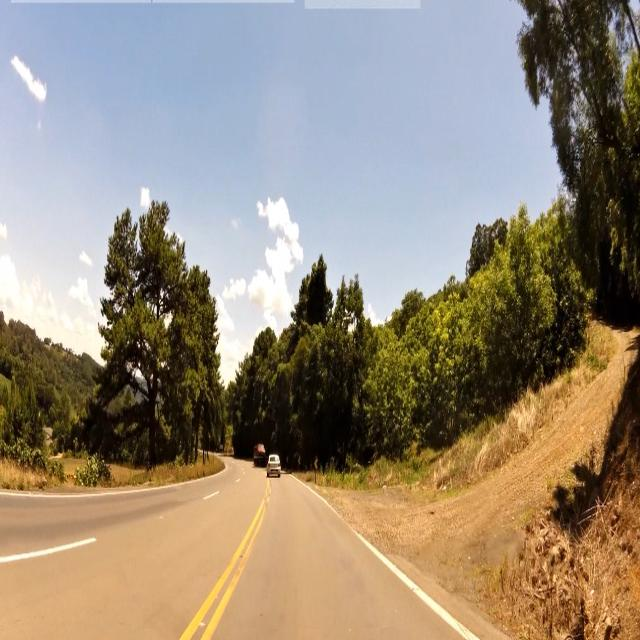Del: (314, 458, 318, 470)
